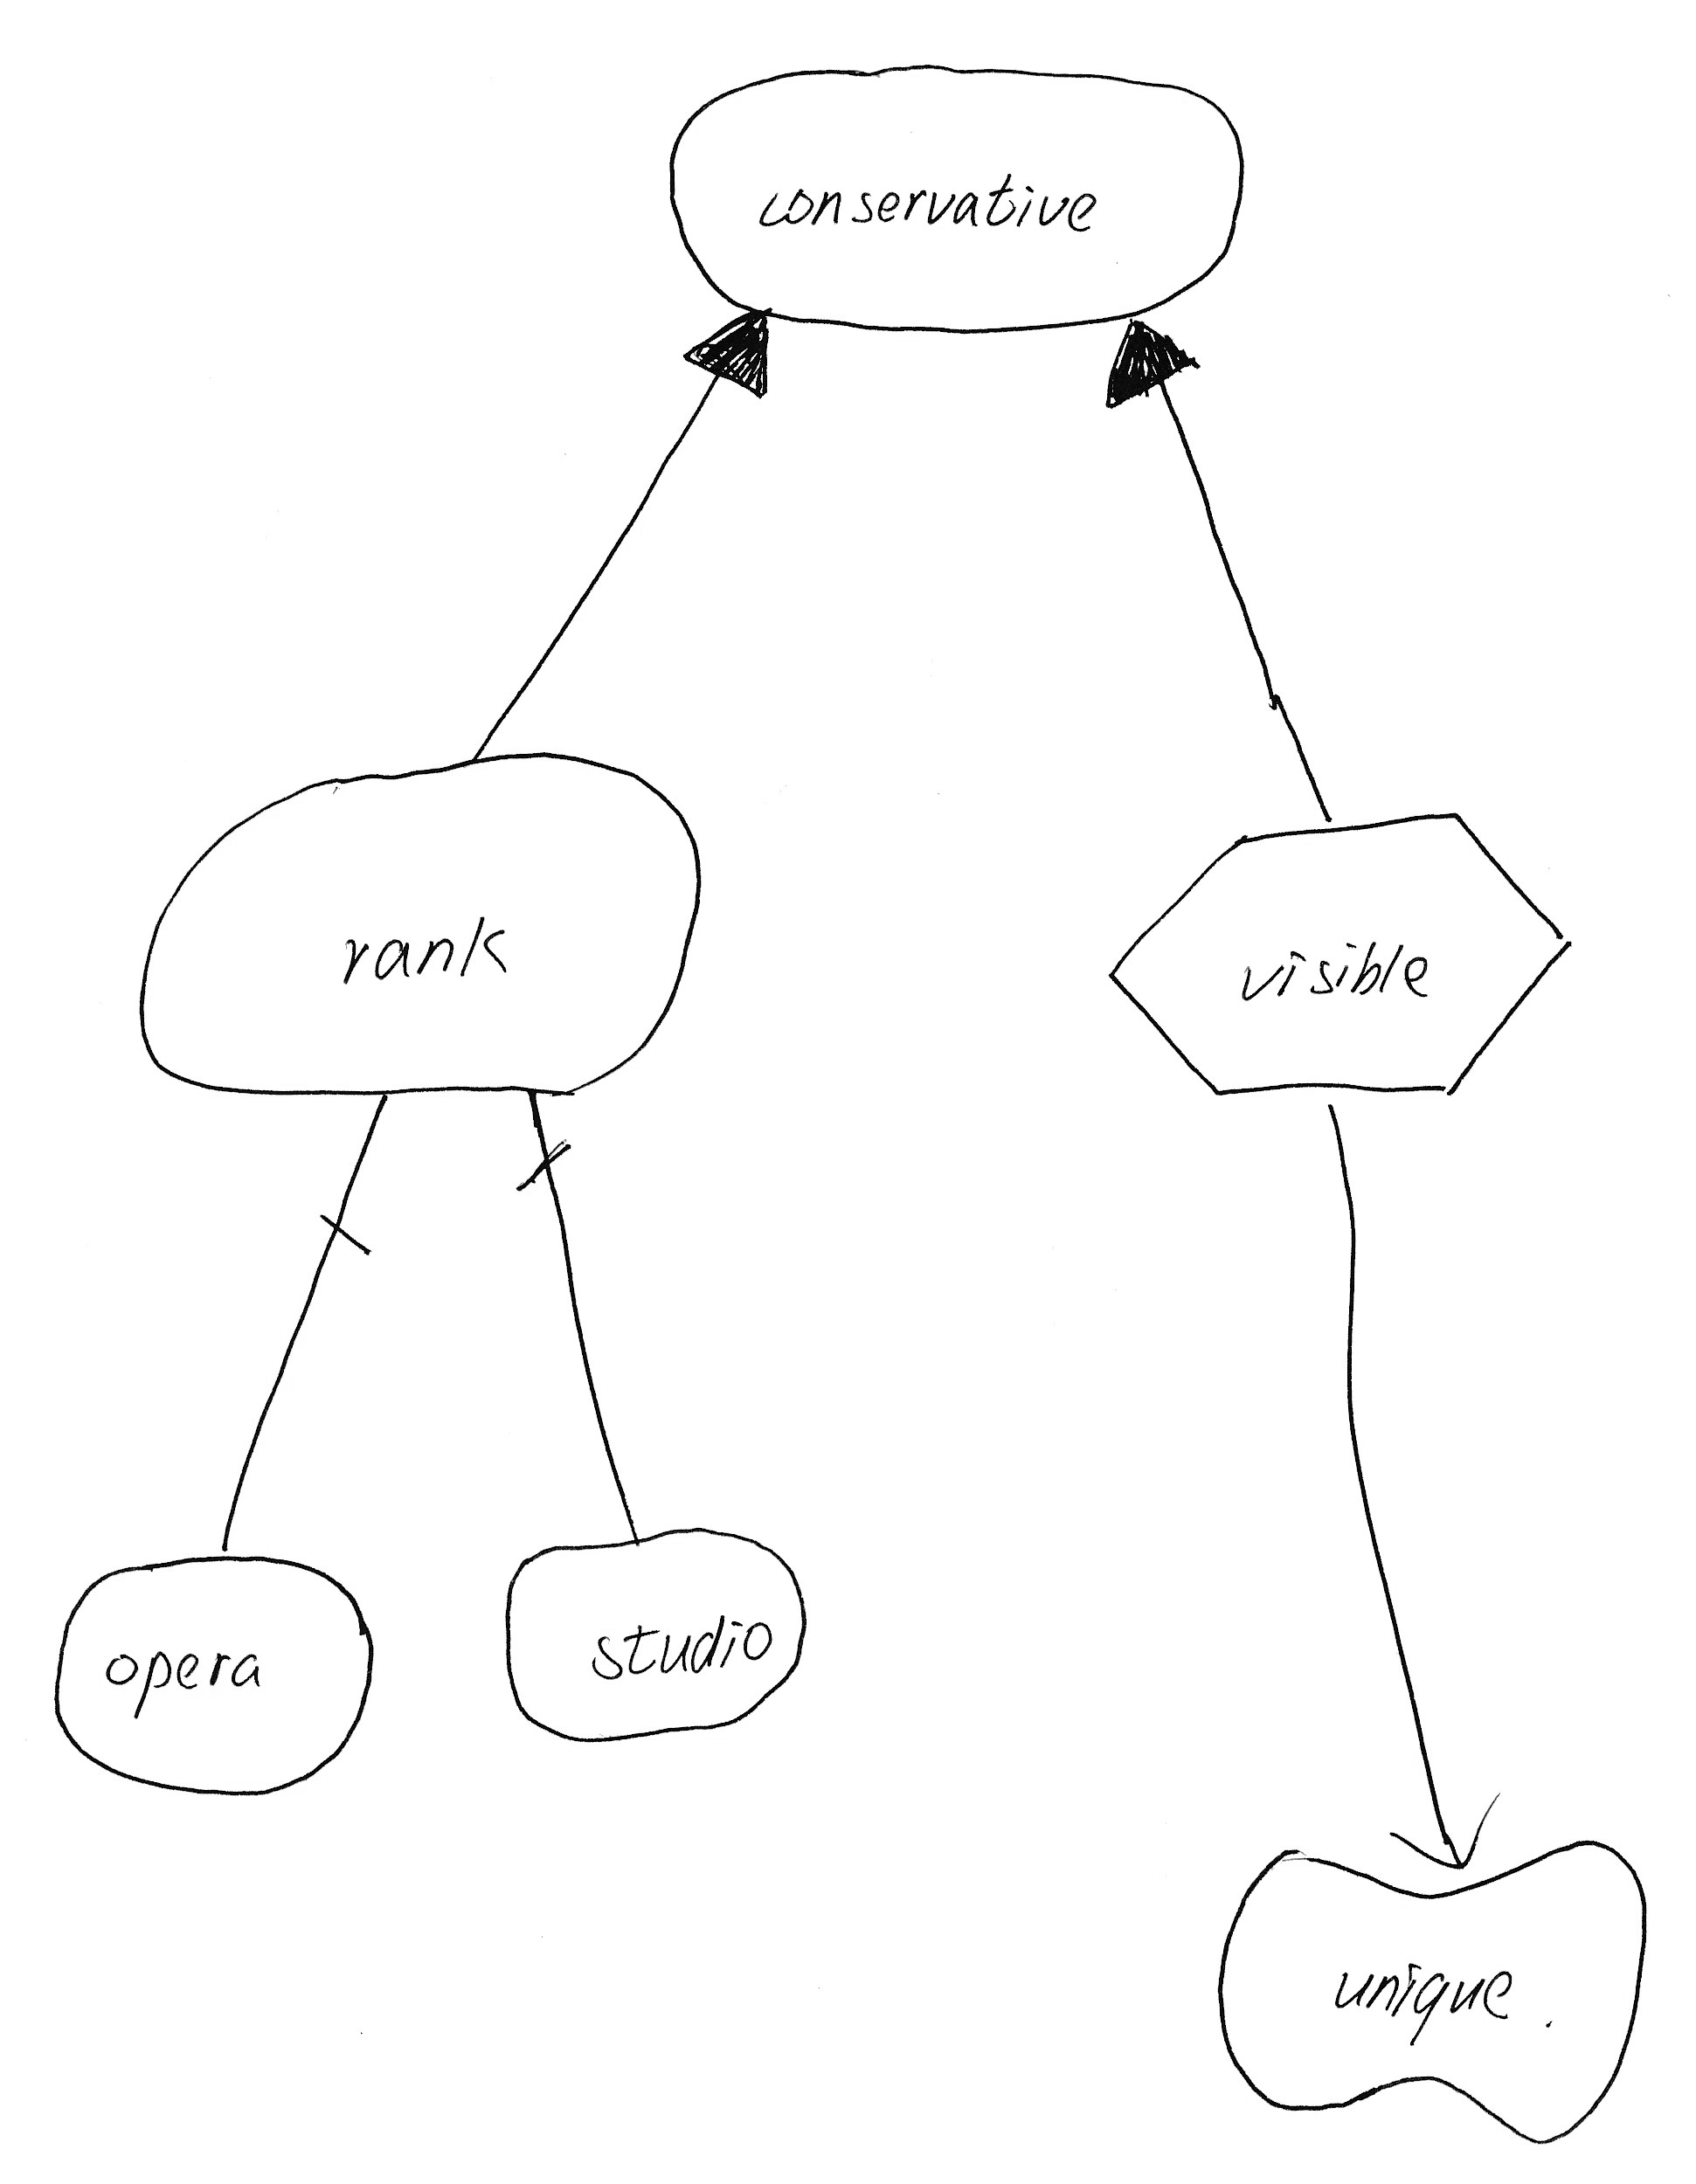and: (314, 1078, 402, 1273), (503, 1074, 581, 1218)
arrow: (1379, 1778, 1522, 1884)
goal: (115, 730, 728, 1124), (636, 41, 1269, 360), (28, 1528, 395, 1813), (487, 1507, 829, 1769)
or: (1092, 298, 1212, 425), (672, 291, 792, 417)
quality: (1196, 1821, 1678, 2159)
task: (1086, 789, 1597, 1127)
